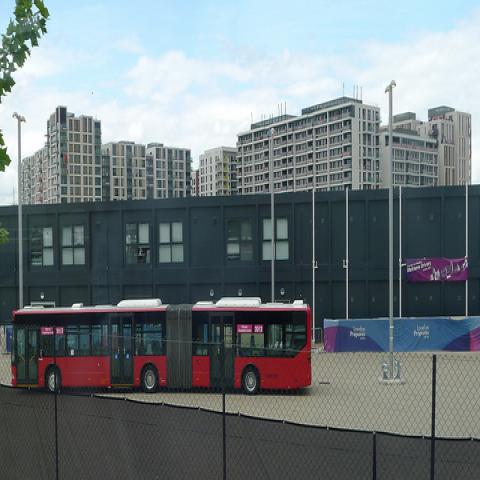bus: (8, 301, 311, 396)
